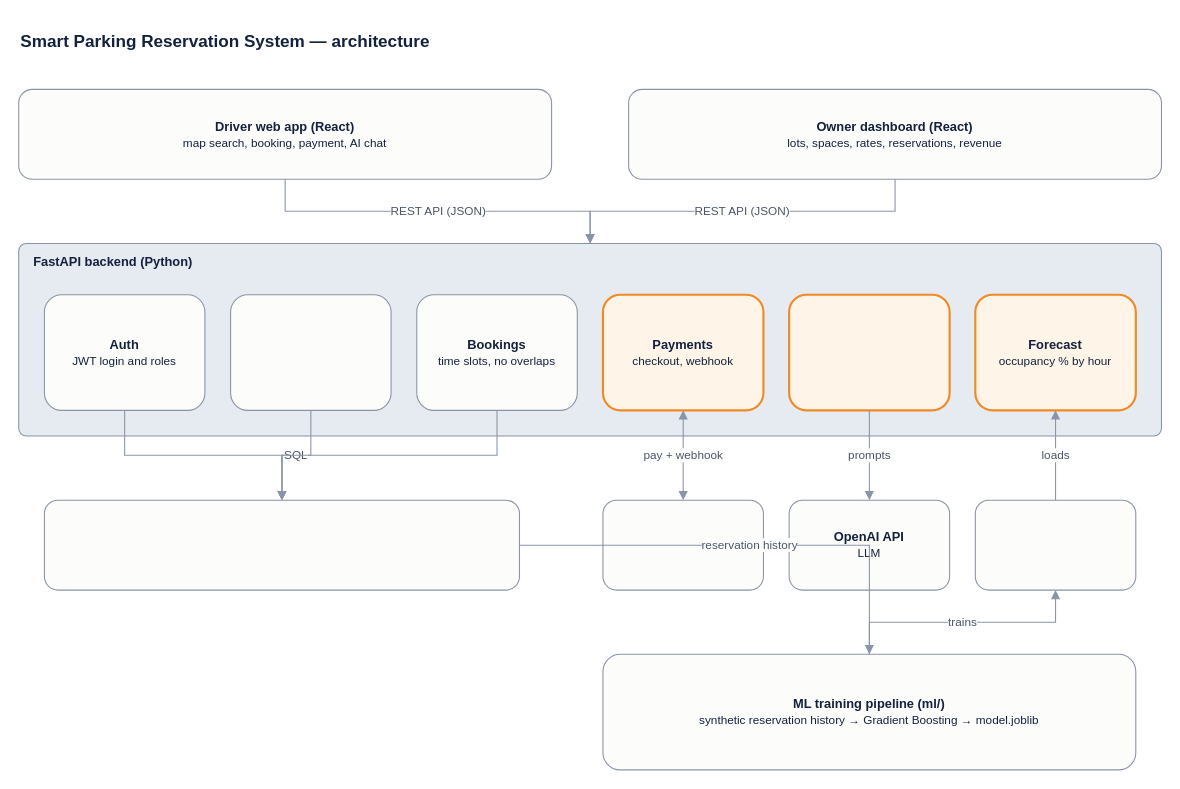
The diagram is 1180 pixels wide and 789 high, and some of its shapes have lost their labels. The centre of each missing label's shape, as x and y in pixels:
AI agent search, book as LLM tools: point 869,352
ML model model.joblib: point 1055,544
Parkings lots, spaces and rates: point 310,352
PostgreSQL users, lots, reservations, payments: point 281,544
Stripe test mode: point 682,544
